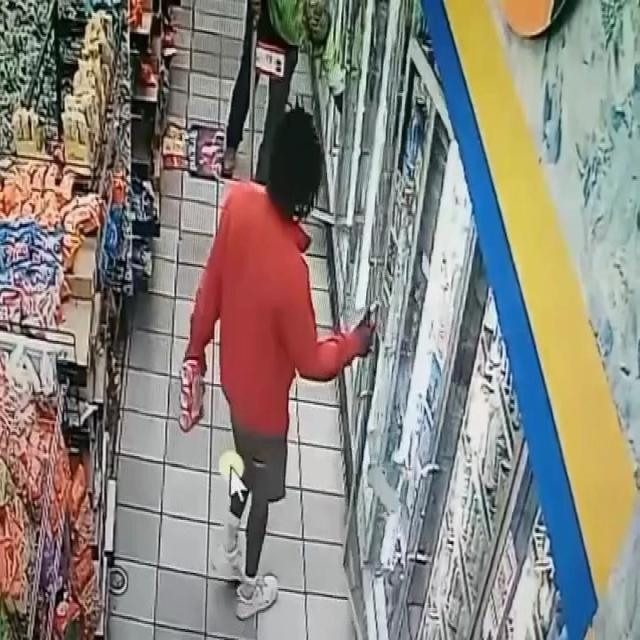Normal: (177, 98, 381, 624), (214, 1, 344, 176)
